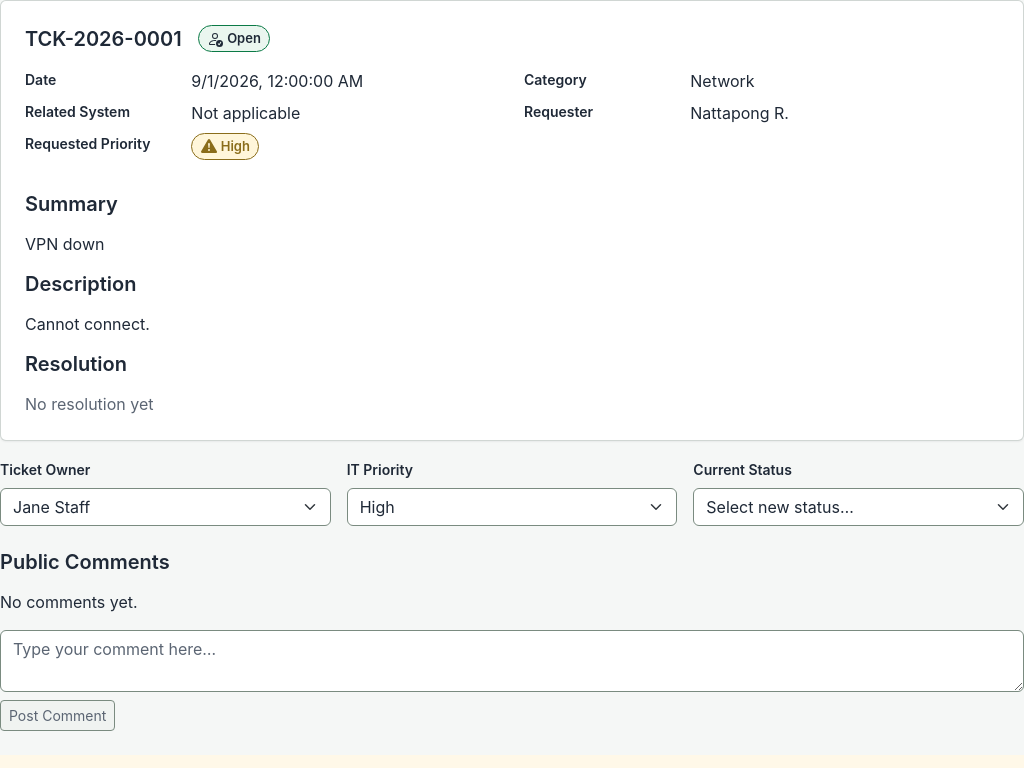
Test: StaffTicketDetailPage › shows a visible error with Retry when changing the IT Priority fails (N2)
Select "Urgent" in the dropdown labelled "IT Priority" at {"x": 512, "y": 507}, box [347,488,677,526]
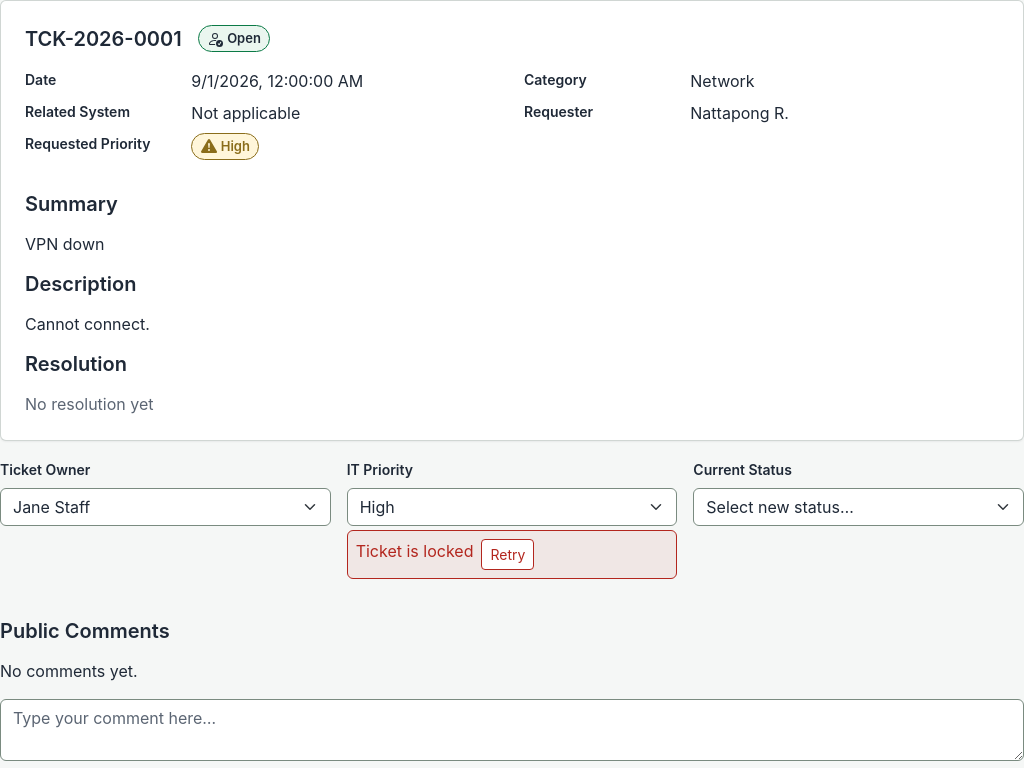
Result: the text "Ticket is locked" is shown at [356,539,474,563]
